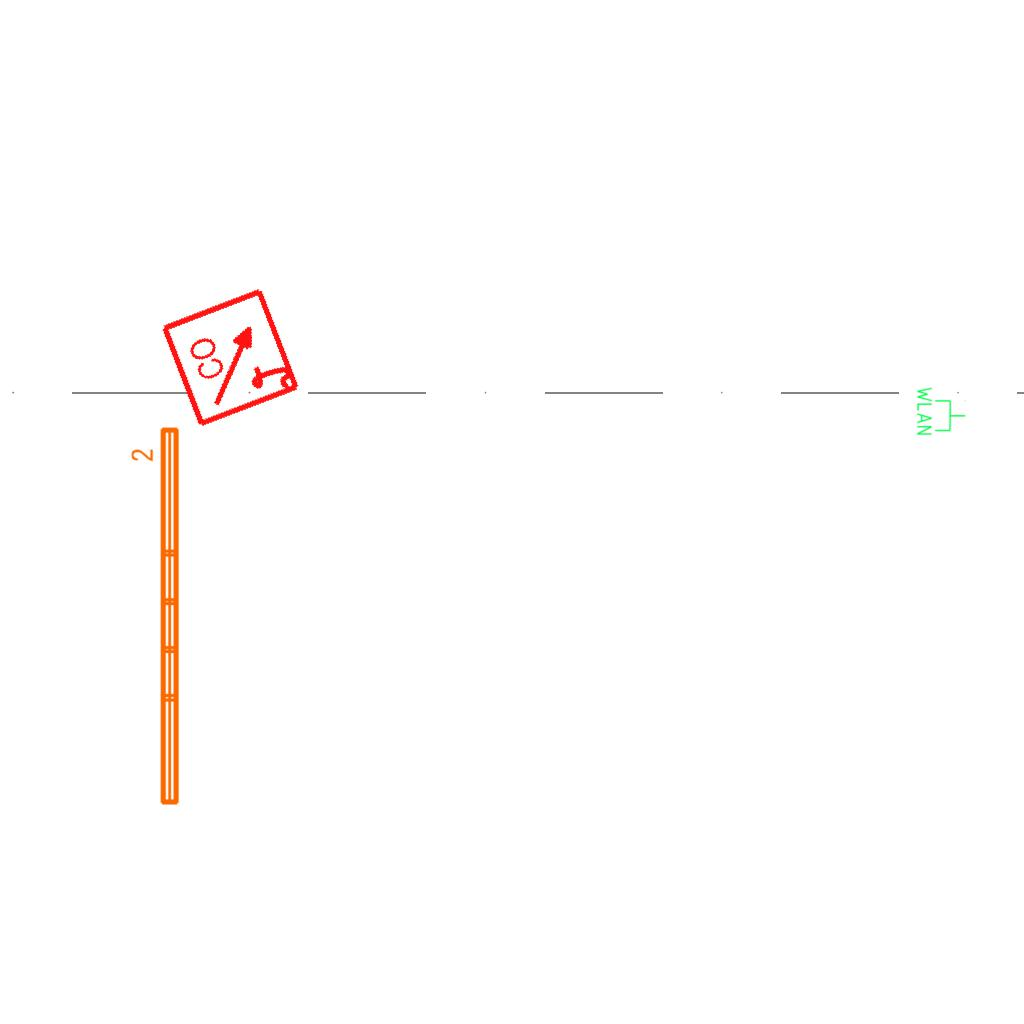Ambulanz_Pendelleuchte_LED: (129, 423, 185, 810)
ROA_Rauchmelder_optisch_mit_Signalgeber_(Sockelsirene): (158, 283, 305, 430)
WLAN: (915, 385, 967, 437)
